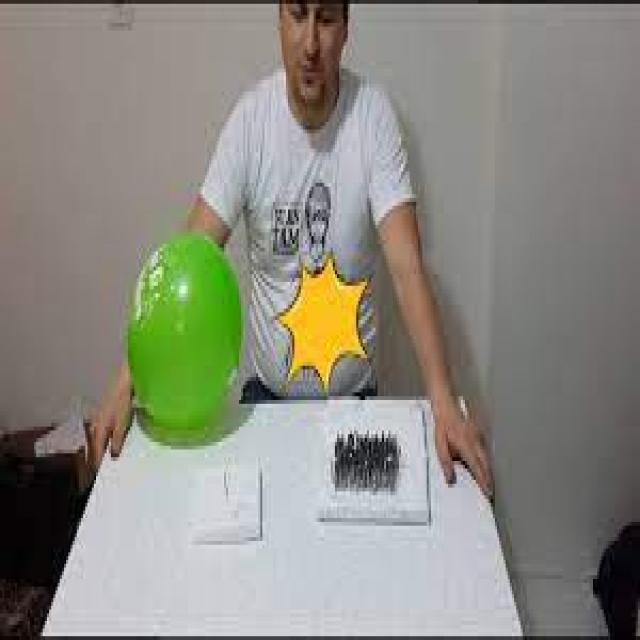balloon: (124, 225, 240, 434)
